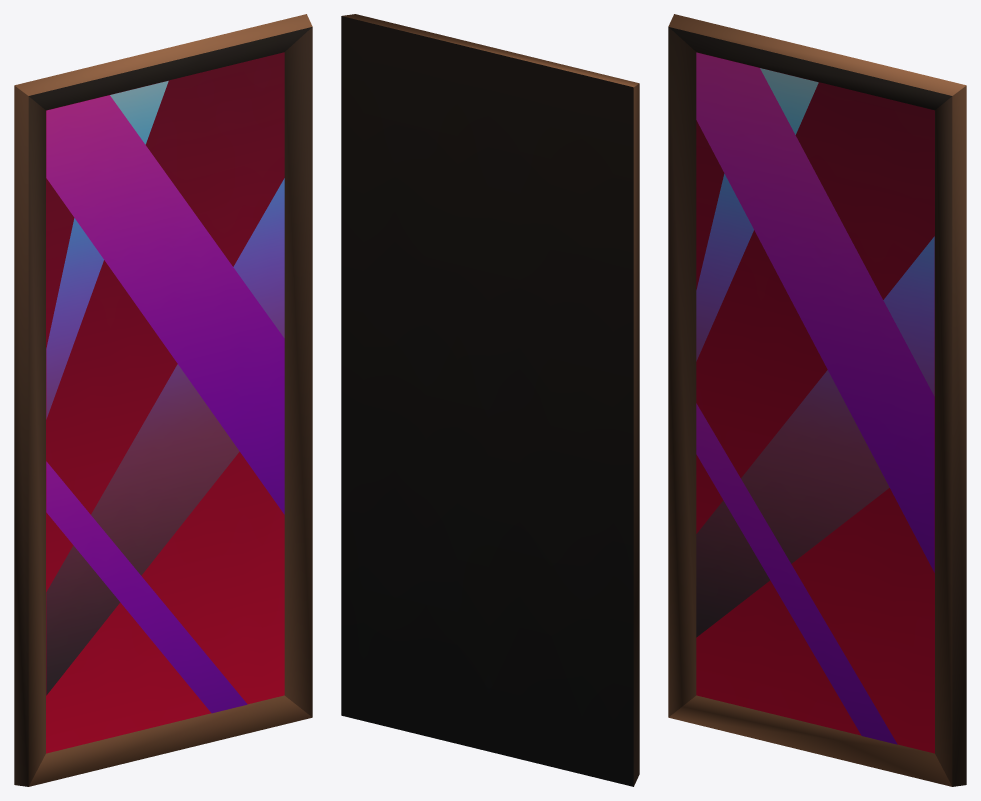
File: TSP_Wall_Frame_03B.fbx
The picture shows the model from 3 angles, left to right: view 1: azimuth 30°, elevation 25°; view 2: azimuth 150°, elevation 25°; view 3: azimuth 330°, elevation 25°; orthographic projection.
Visible parts, largest first — view 1: TSP_Wall_Frame_03B; view 2: TSP_Wall_Frame_03B; view 3: TSP_Wall_Frame_03B.
Boxes of the visible parts, left/top/right/bottom form: TSP_Wall_Frame_03B: left=14, top=14, right=312, bottom=786; TSP_Wall_Frame_03B: left=341, top=14, right=639, bottom=786; TSP_Wall_Frame_03B: left=668, top=14, right=966, bottom=786.
Bounding box in the file's own units: 0.7 × 1.6 × 0.0417.
